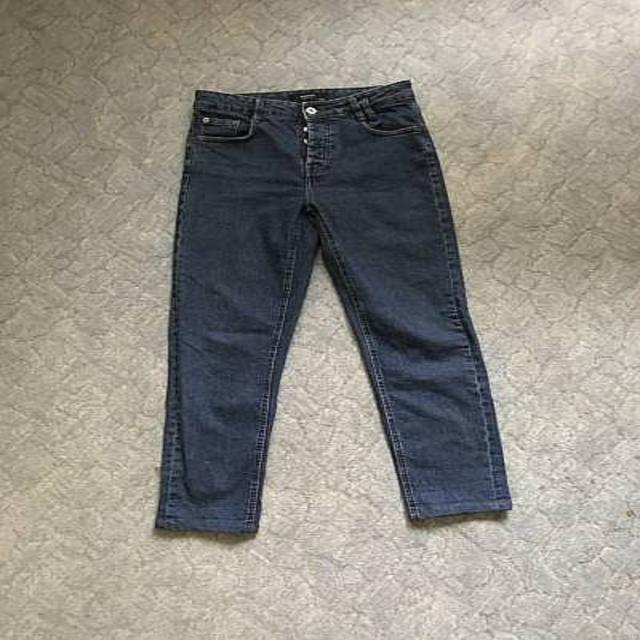TROUSER: (142, 68, 521, 546)
